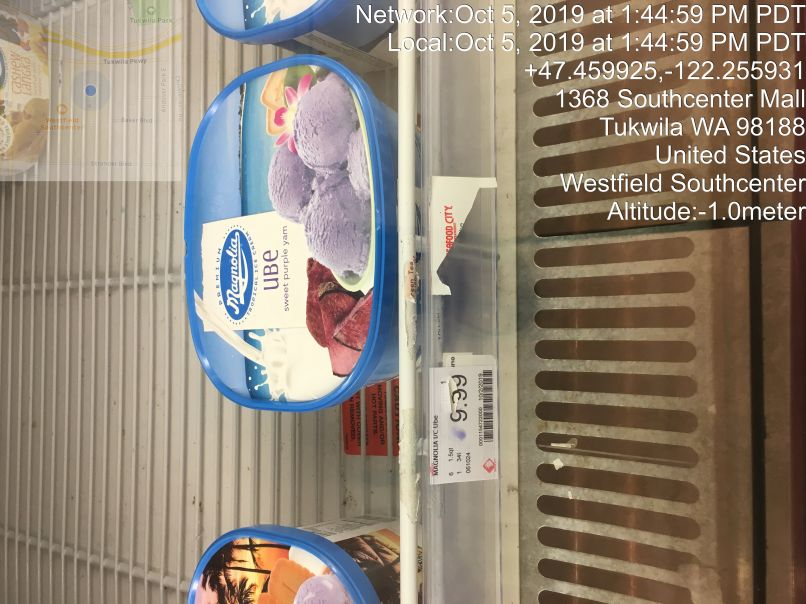Label: (417, 345, 509, 495)
Location: (546, 81, 806, 197)
Magnolia: (163, 59, 398, 415), (164, 507, 412, 604), (170, 1, 400, 57), (1, 1, 64, 198)
Time: (347, 1, 806, 59)
